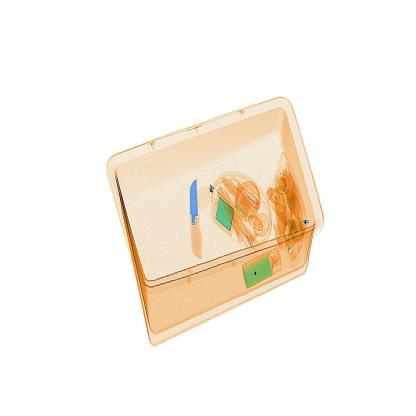wrench: (184, 178, 208, 265)
